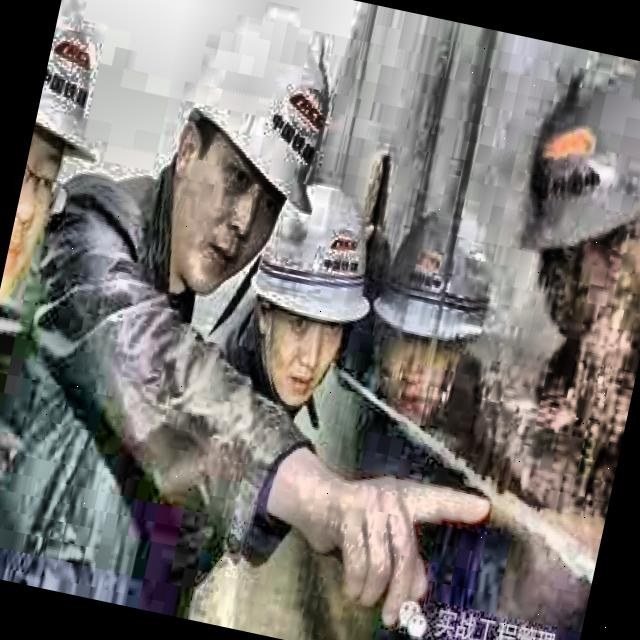helmet: (130, 8, 354, 342), (225, 152, 400, 424), (0, 24, 120, 314)
